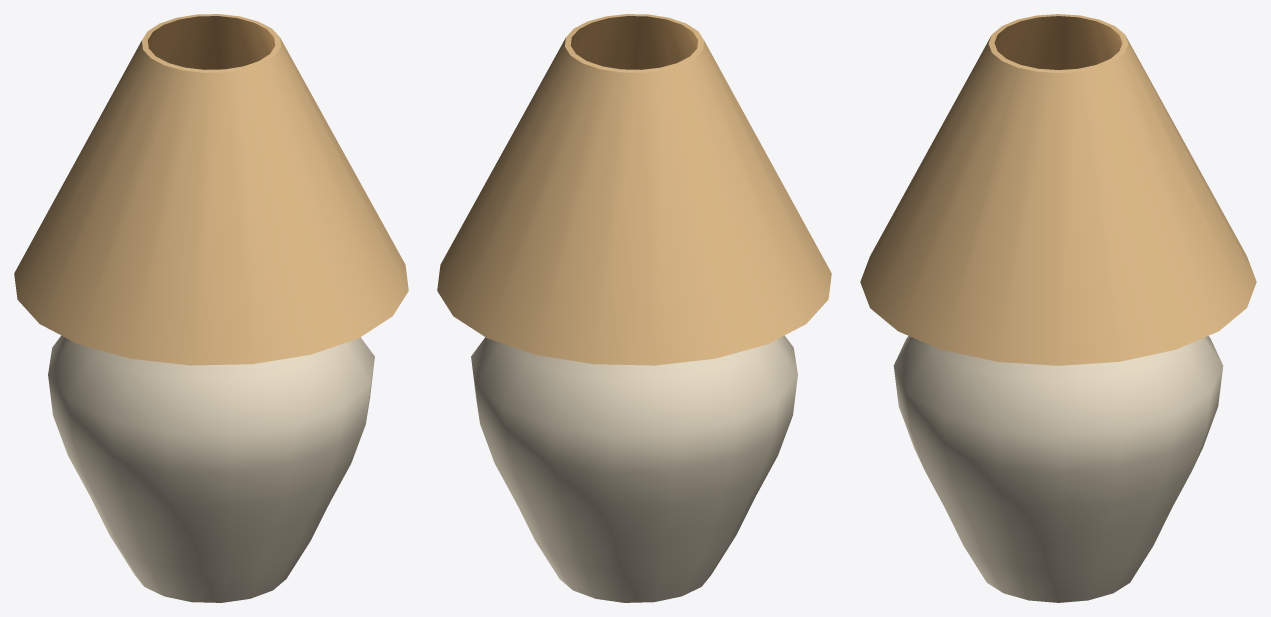
Rendered from Table_lamp.fbx.
3 views of the same model, side by side, from view 1: azimuth 30°, elevation 25°; view 2: azimuth 150°, elevation 25°; view 3: azimuth 270°, elevation 25° (orthographic).
Parts seen in each view (by area): view 1: TableLamp; view 2: TableLamp; view 3: TableLamp.
Part boxes in pixels (bbox=[...]): TableLamp: bbox=[14, 14, 408, 602]; TableLamp: bbox=[437, 14, 831, 602]; TableLamp: bbox=[860, 14, 1256, 602].
Bounding box in the file's own units: 0.2488 × 0.3649 × 0.2488.
